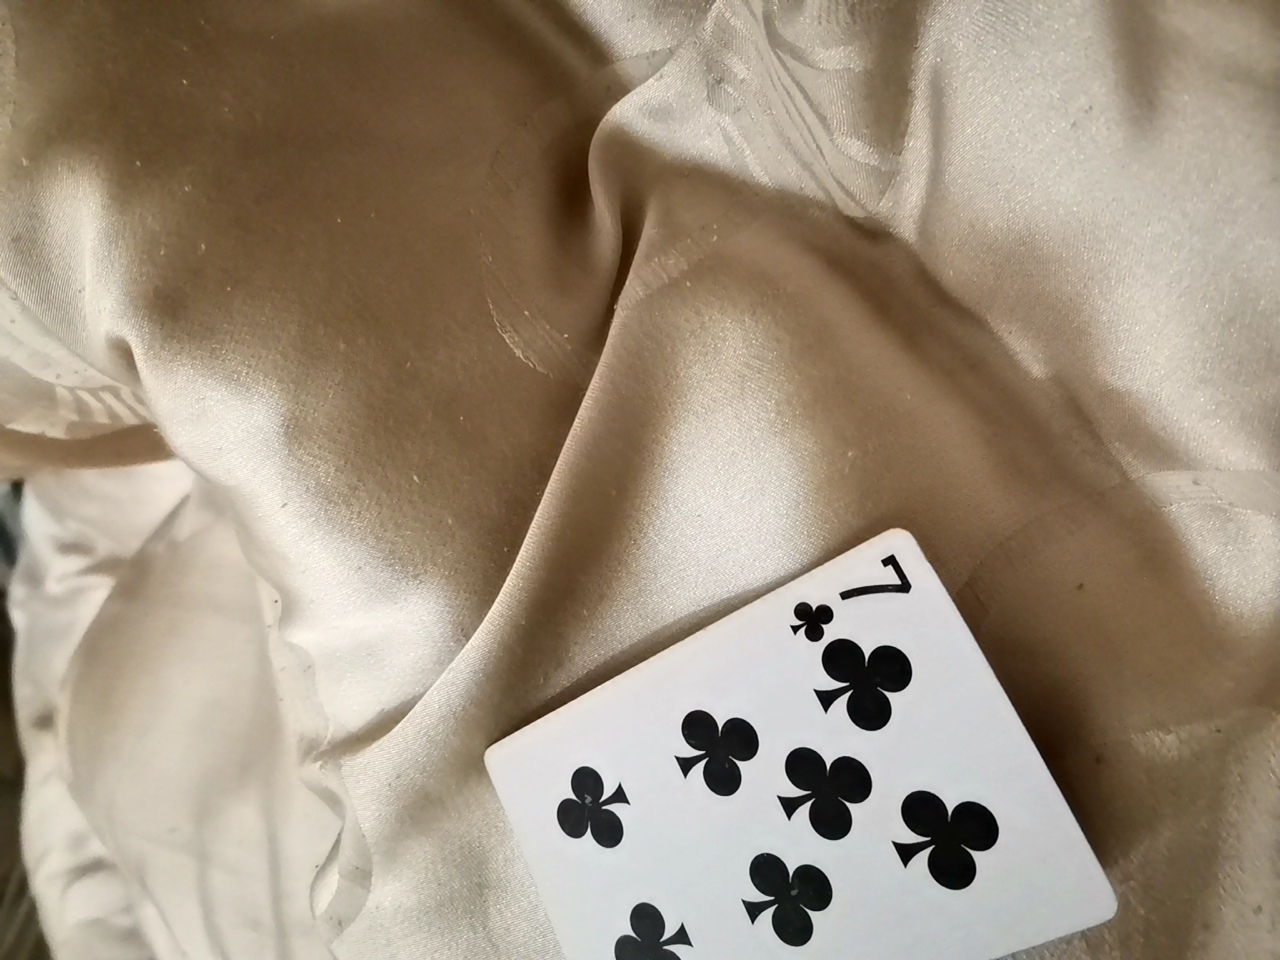mh 7: (451, 529, 1128, 960)
